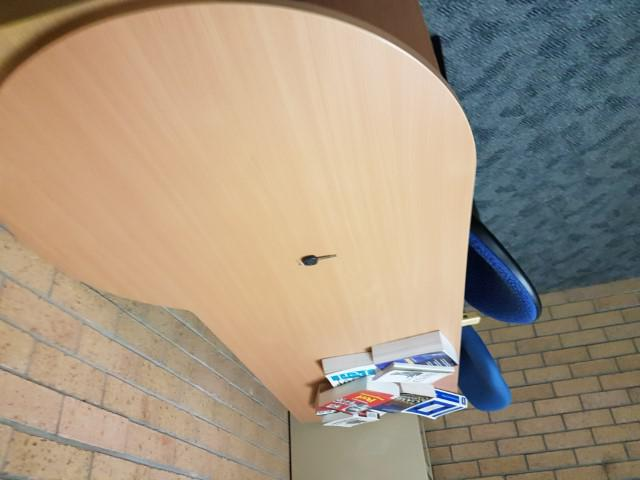key: (298, 251, 339, 268)
